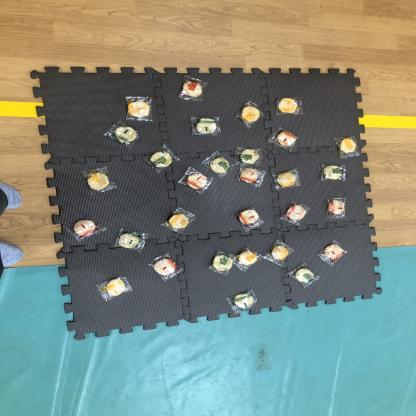green_setoshio: (105, 121, 144, 148), (187, 114, 224, 138), (146, 146, 178, 172), (290, 264, 323, 289), (118, 228, 151, 252), (207, 251, 235, 277), (228, 289, 257, 314), (205, 153, 237, 174), (319, 161, 349, 182), (236, 146, 264, 164)
red_setoshio: (178, 167, 216, 195), (317, 238, 352, 265), (148, 253, 182, 280), (234, 202, 266, 230), (68, 214, 100, 241), (175, 75, 206, 102), (269, 126, 302, 150), (279, 202, 312, 225), (324, 194, 350, 221), (238, 166, 268, 187)
yellow_setoshio: (80, 166, 118, 195), (161, 206, 197, 236), (123, 94, 155, 122), (264, 240, 296, 266), (96, 277, 132, 300), (236, 100, 265, 127), (235, 246, 264, 273), (274, 167, 302, 190), (275, 96, 306, 116), (337, 136, 365, 158)
